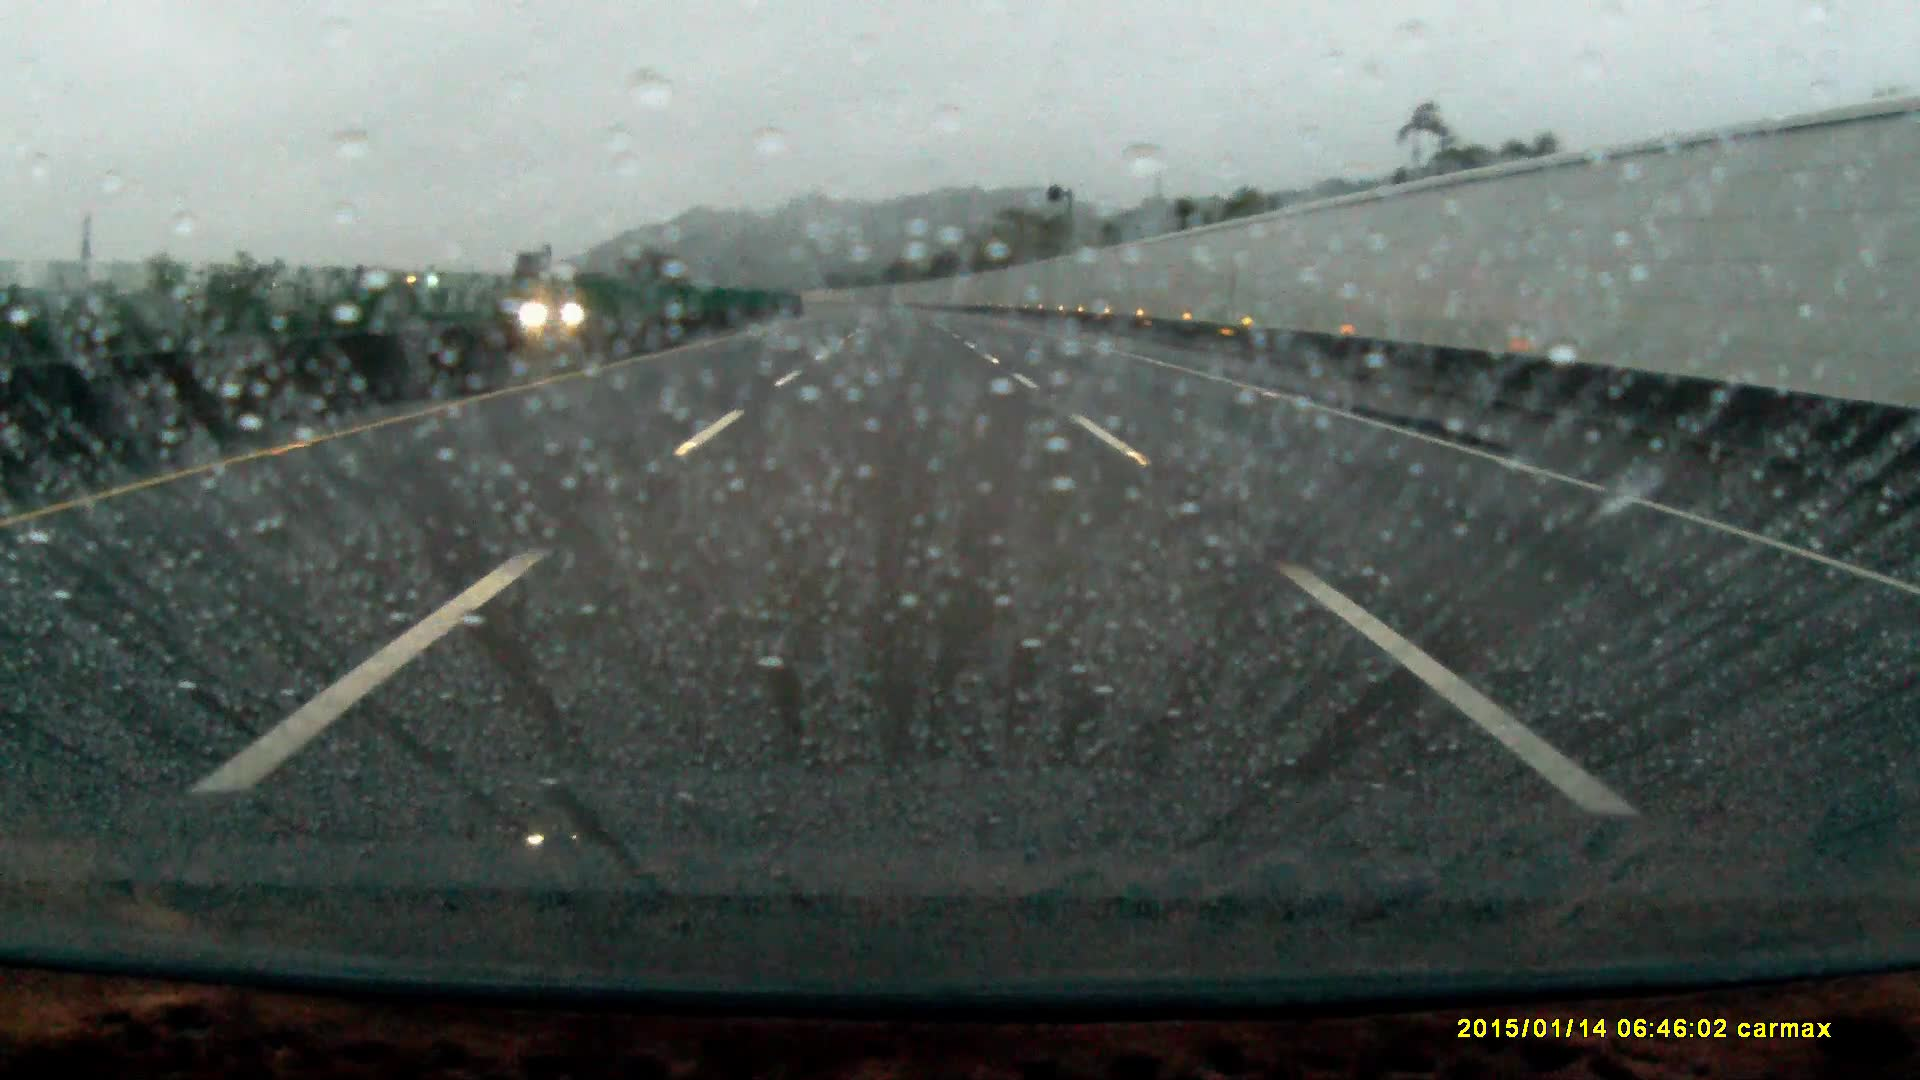vehicle: (531, 290, 597, 324)
